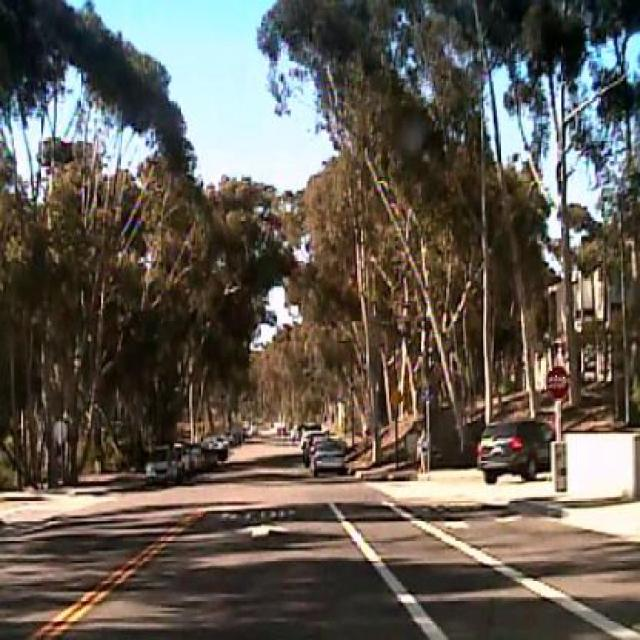stop: (545, 364, 569, 400)
